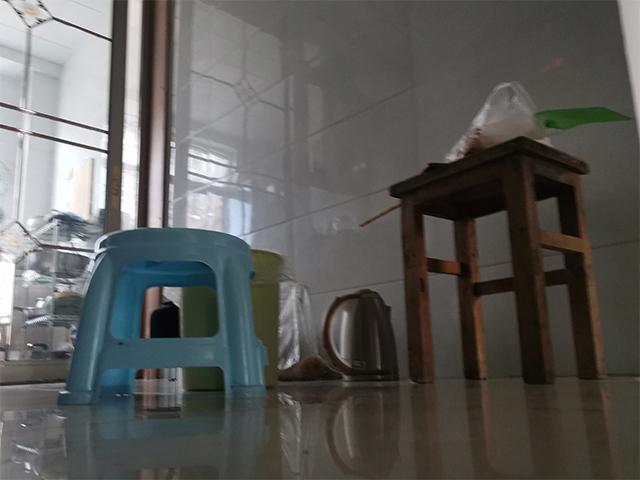stool: (386, 133, 608, 386), (52, 225, 270, 409)
